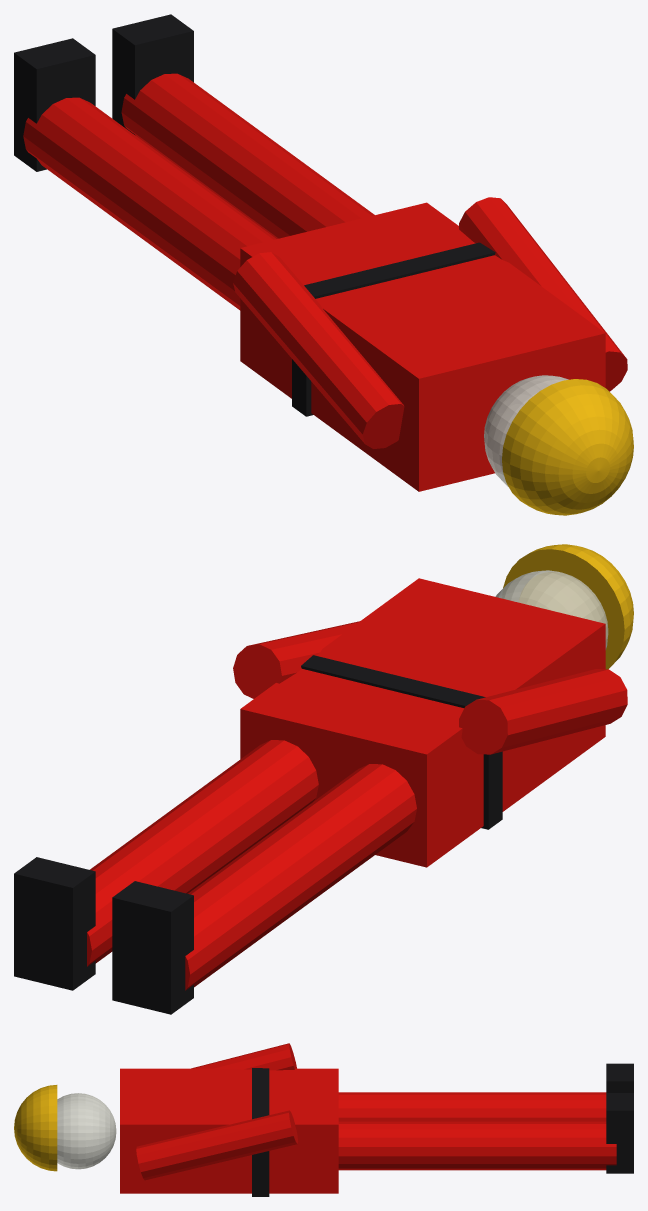
Rendered from technician.glb.
3 views of the same model, one above another, from view 1: azimuth 30°, elevation 25°; view 2: azimuth 150°, elevation 25°; view 3: azimuth 270°, elevation 25° (orthographic). The views are drawn at different scales.
Visible parts, largest first — view 1: technician; view 2: technician; view 3: technician.
Part boxes in pixels (bbox=[...]): technician: bbox=[14, 14, 633, 515]; technician: bbox=[14, 544, 633, 1014]; technician: bbox=[14, 1043, 633, 1196].
Size of the model in its own units: 0.5597 by 0.2831 by 1.78.
